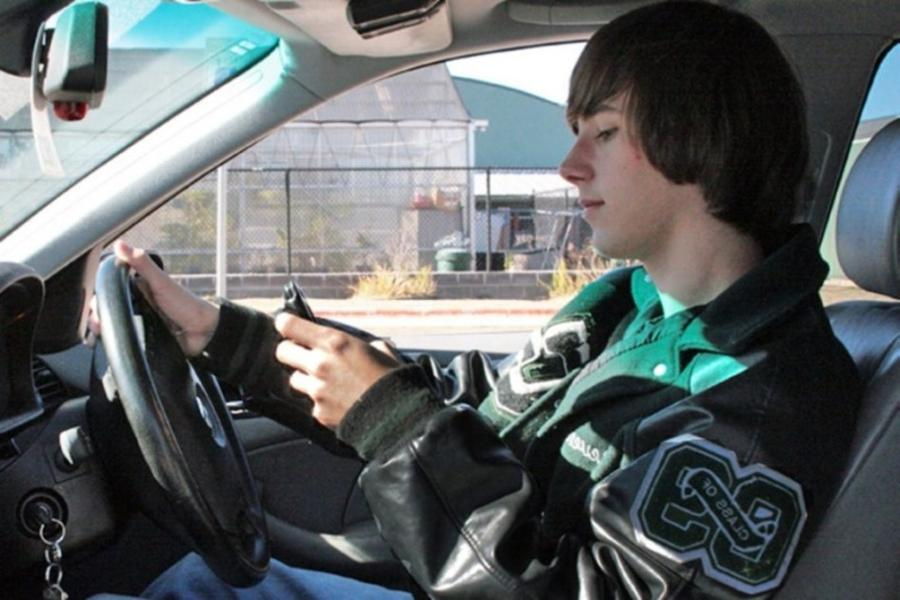person: (78, 3, 861, 600)
